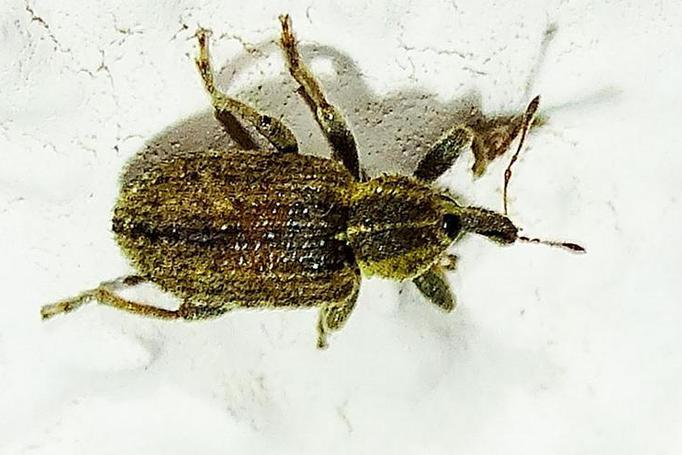weevils: (0, 1, 631, 389)
